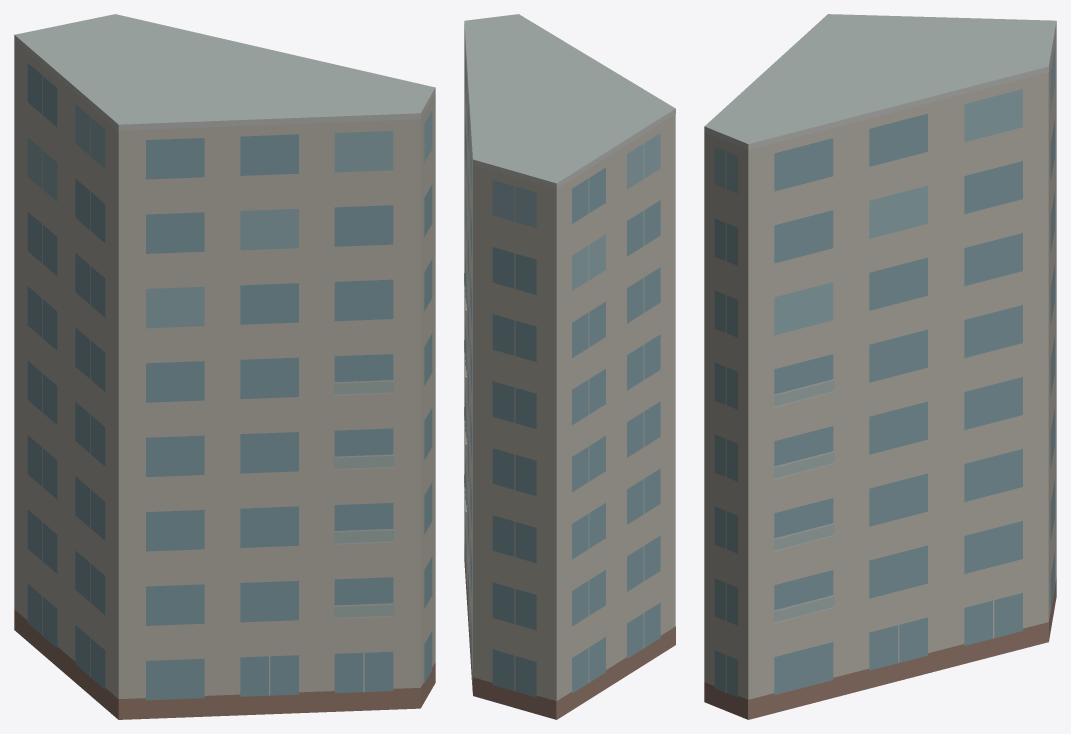
Rendered from survey-upis-32558881.glb.
3 renders of one model, left to right at view 1: azimuth 30°, elevation 25°; view 2: azimuth 150°, elevation 25°; view 3: azimuth 270°, elevation 25°, orthographic. The views are drawn at different scales.
Parts seen in each view (by area): view 1: survey-upis-32558881.tmp; view 2: survey-upis-32558881.tmp; view 3: survey-upis-32558881.tmp.
Part boxes in pixels (left/top/right/bottom): survey-upis-32558881.tmp: left=14, top=14, right=435, bottom=719; survey-upis-32558881.tmp: left=464, top=14, right=675, bottom=719; survey-upis-32558881.tmp: left=704, top=14, right=1056, bottom=719.
Bounding box in the file's own units: 11.79 × 24.3 × 13.48.
